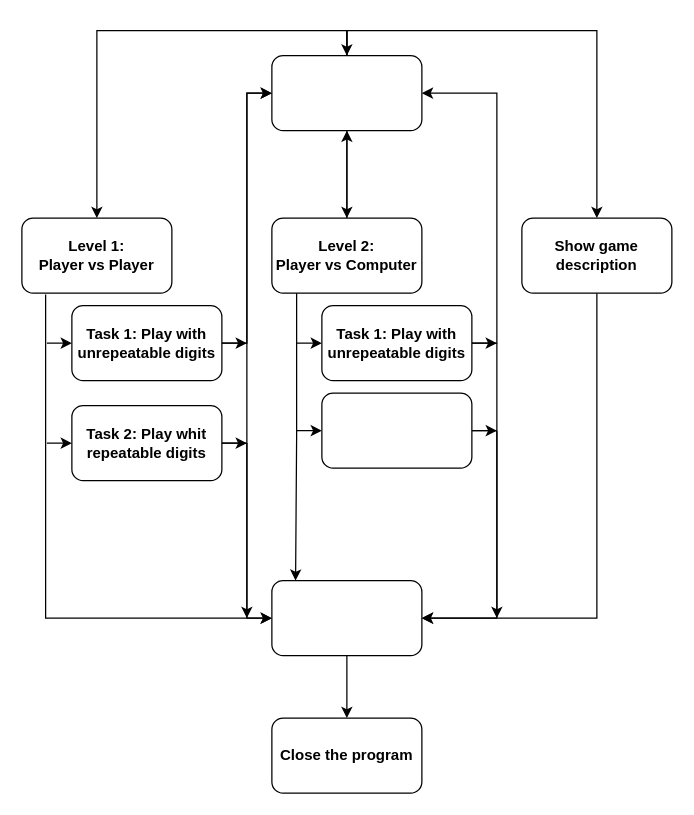
This 694x815 diagram has some shape labels left out. Here are the shapes that lost their labels. From the top down, the box of each, then its label:
(271, 54, 422, 131): Main Menu
(321, 392, 472, 468): Task 2: Play with repeatable digits
(271, 579, 422, 656): Exit
